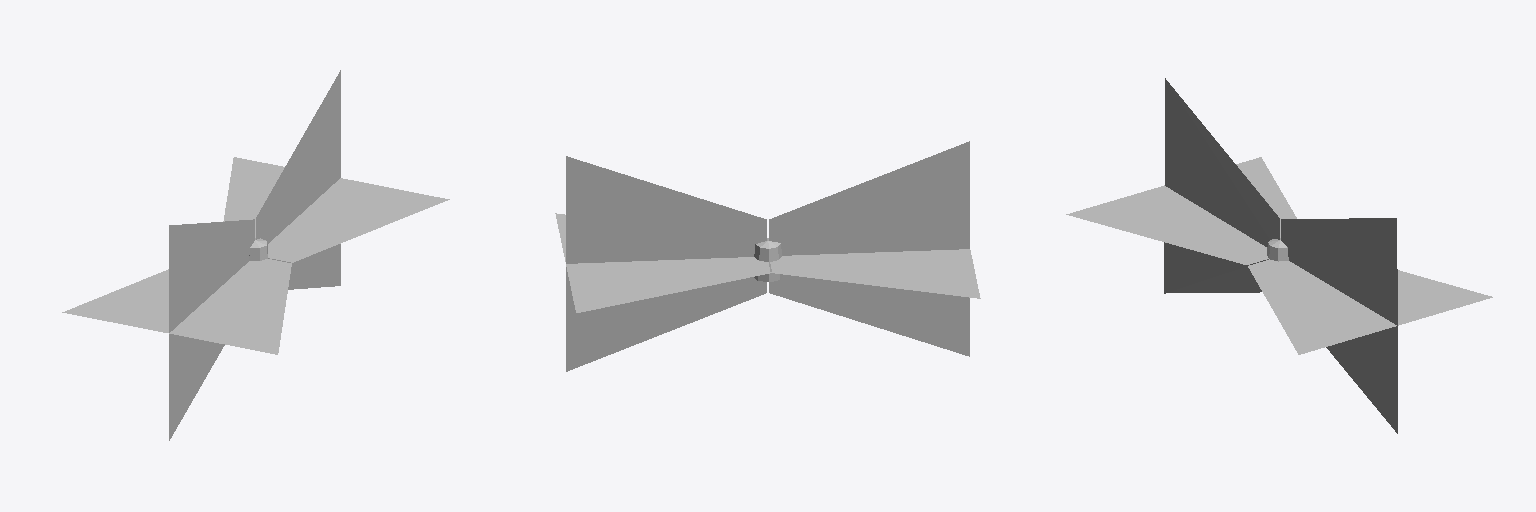
Rendered from stg400_MotRotlightA_r3_18.obj.
The picture shows the model from 3 angles: view 1: azimuth 30°, elevation 25°; view 2: azimuth 150°, elevation 25°; view 3: azimuth 270°, elevation 25°; orthographic projection.
Visible parts, largest first — view 1: polygon4; view 2: polygon4; view 3: polygon4.
Boxes of the visible parts, box(x1,y1,x2,y2) form: polygon4: box(62, 70, 449, 440); polygon4: box(555, 141, 980, 371); polygon4: box(1066, 78, 1492, 433).
Size of the model in its own units: 126 by 63.89 by 115.